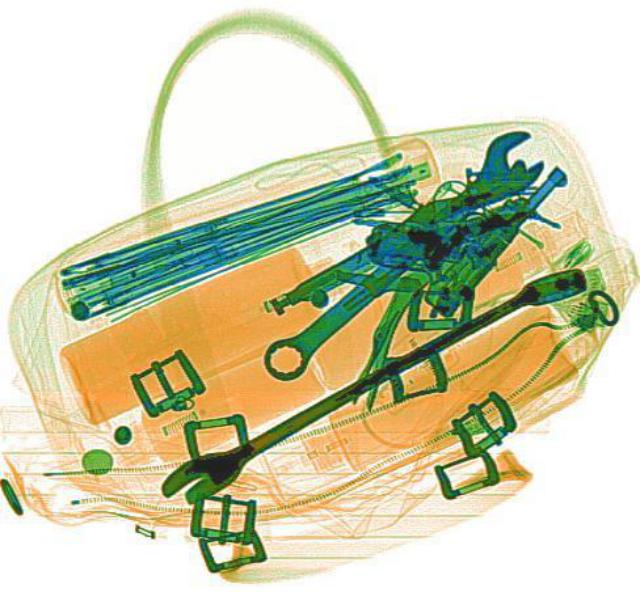Gun: (343, 101, 572, 320)
Wrench: (148, 250, 596, 511), (244, 118, 560, 391)
